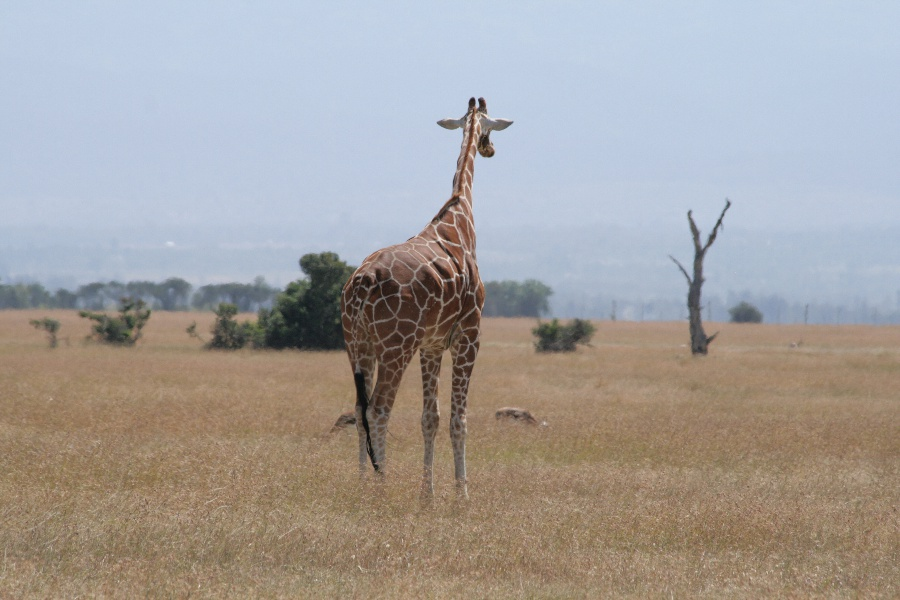giraffe: (330, 87, 517, 509)
